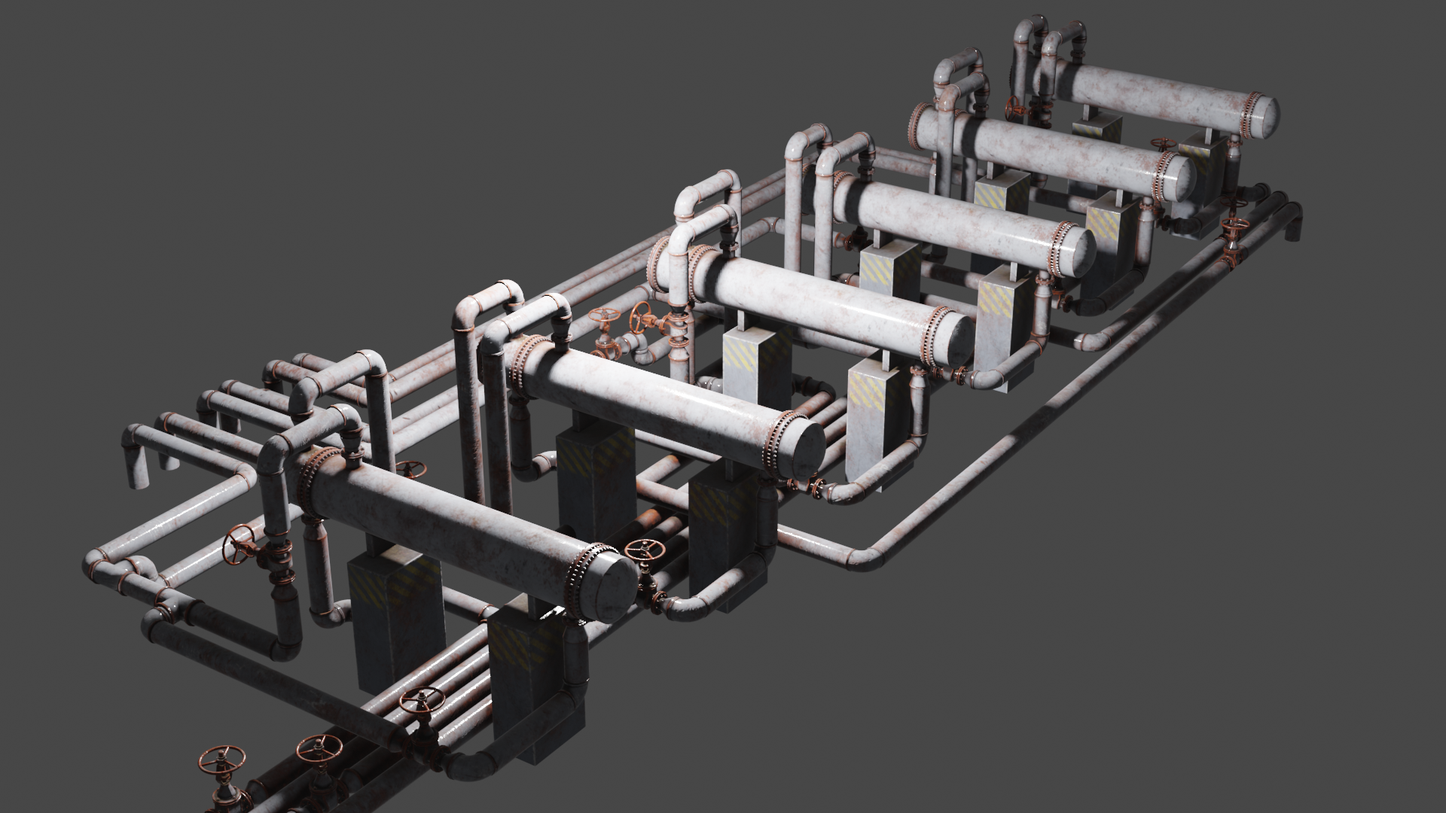HE_1: (1005, 51, 1281, 138)
HE_2: (904, 95, 1193, 201)
HE_3: (798, 161, 1094, 274)
HE_4: (646, 226, 974, 372)
HE_5: (472, 322, 828, 483)
HE_6: (282, 439, 638, 623)
